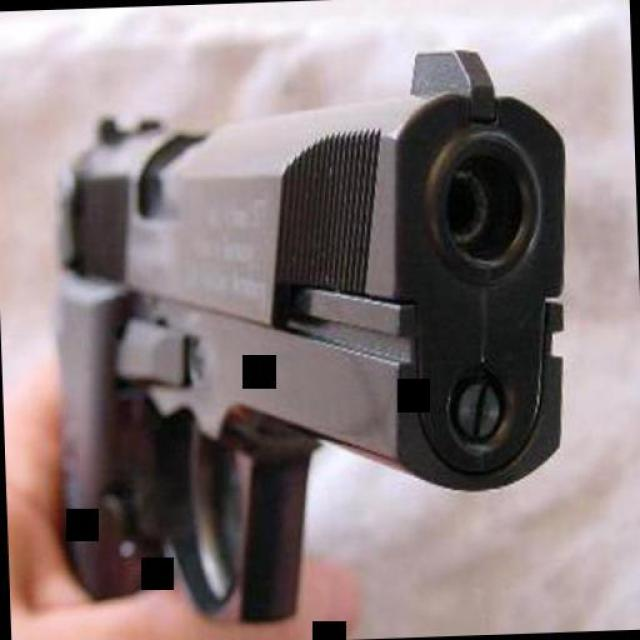gun: (44, 37, 588, 628)
